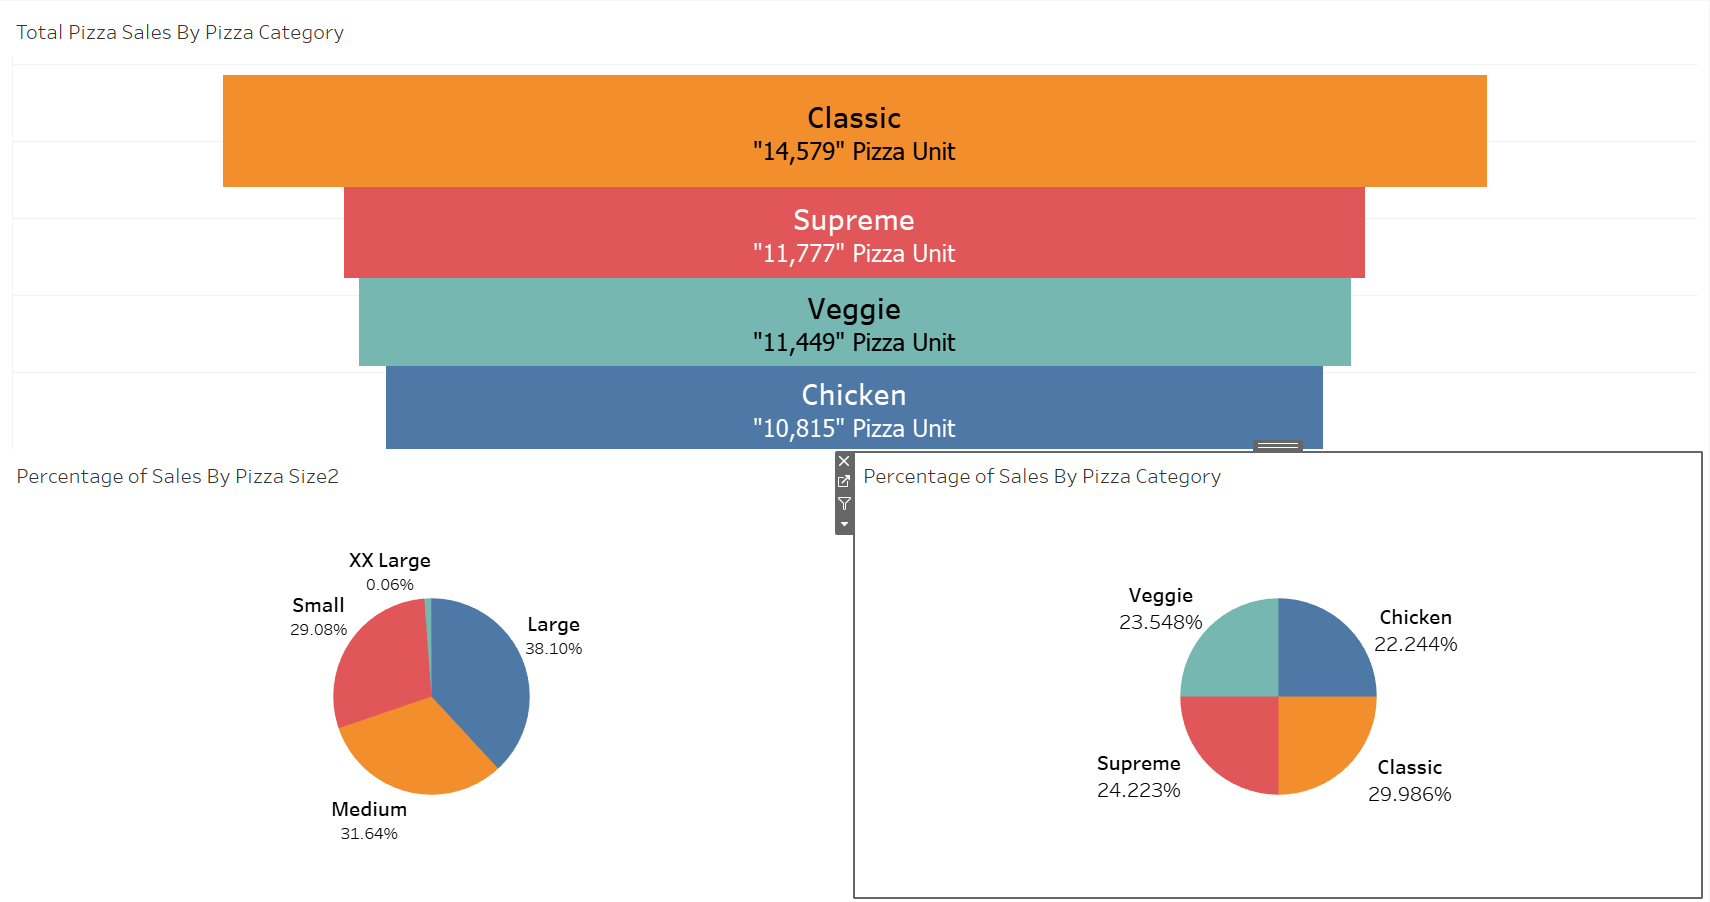

This screenshot's page, from the dashboard's own definition file:
{"tool":"tableau","page":{"name":"Dashboard2","canvas":[1000,1000],"units":"permille","ordinal":1},"visuals":[{"type":"worksheet","title":"Total Pizza Sales By Pizza Category","mark":"Bar","rows":["pizza!sales (2)_371EA577CEA54C47A2D5C7F9D5DBCD30"],"box":[4.7,8.8,990.6,491.2]},{"type":"worksheet","title":"Percentage of Sales By Pizza Size2","mark":"Pie","box":[4.7,500,495.3,491.2]},{"type":"worksheet","title":"Percentage of Sales By Pizza Category","mark":"Pie","box":[500,500,495.3,491.2]}]}

Visuals, with their boxes on the dashboard's canvas, which has no fixed pixel size, in thousandths of its width and height (x1, y1, x2, y2). These are canvas units, not pixel positions in the 1710x902 screenshot, which may show the page scaled, cropped or inside an application window:
"Total Pizza Sales By Pizza Category" worksheet (Bar marks): 5/9/995/500
"Percentage of Sales By Pizza Size2" worksheet (Pie marks): 5/500/500/991
"Percentage of Sales By Pizza Category" worksheet (Pie marks): 500/500/995/991
